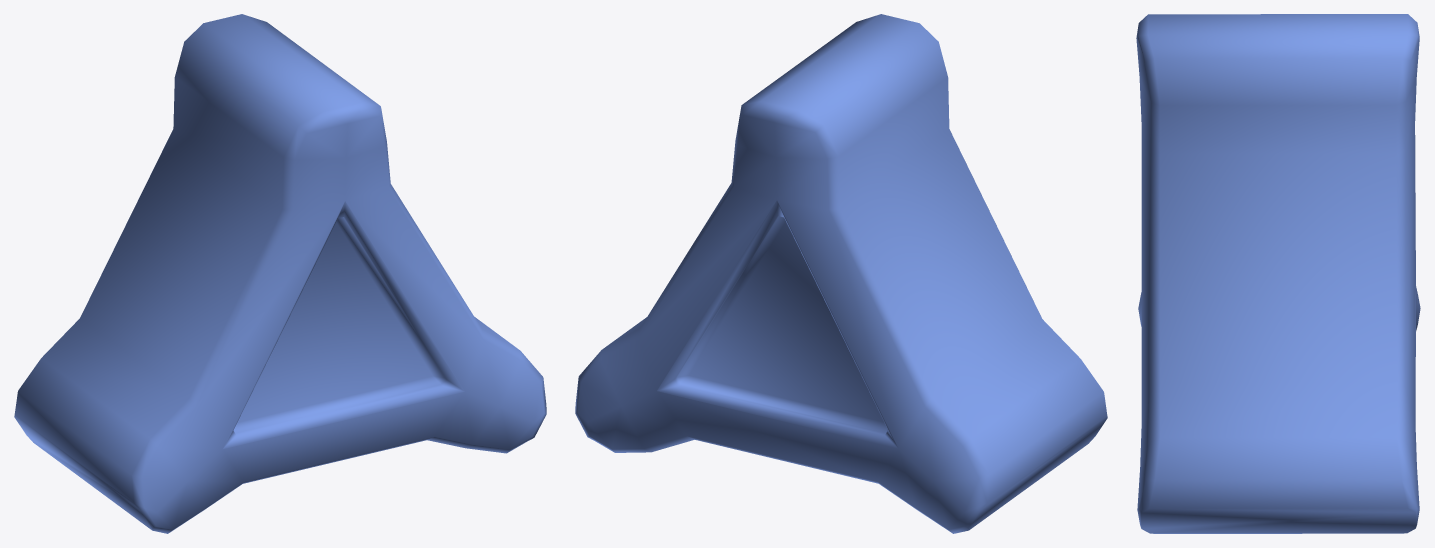
File: geo_item_speed.fbx
The picture shows the model from 3 angles, left to right: view 1: azimuth 30°, elevation 25°; view 2: azimuth 150°, elevation 25°; view 3: azimuth 270°, elevation 25°; orthographic projection. The views are drawn at different scales.
Parts seen in each view (by area): view 1: ItemSpeed; view 2: ItemSpeed; view 3: ItemSpeed.
Boxes of the visible parts, box(x1,y1,x2,y2) form: ItemSpeed: box(14, 14, 546, 533); ItemSpeed: box(575, 14, 1107, 533); ItemSpeed: box(1136, 14, 1420, 533).
Bounding box in the file's own units: 206 × 186 × 114.
